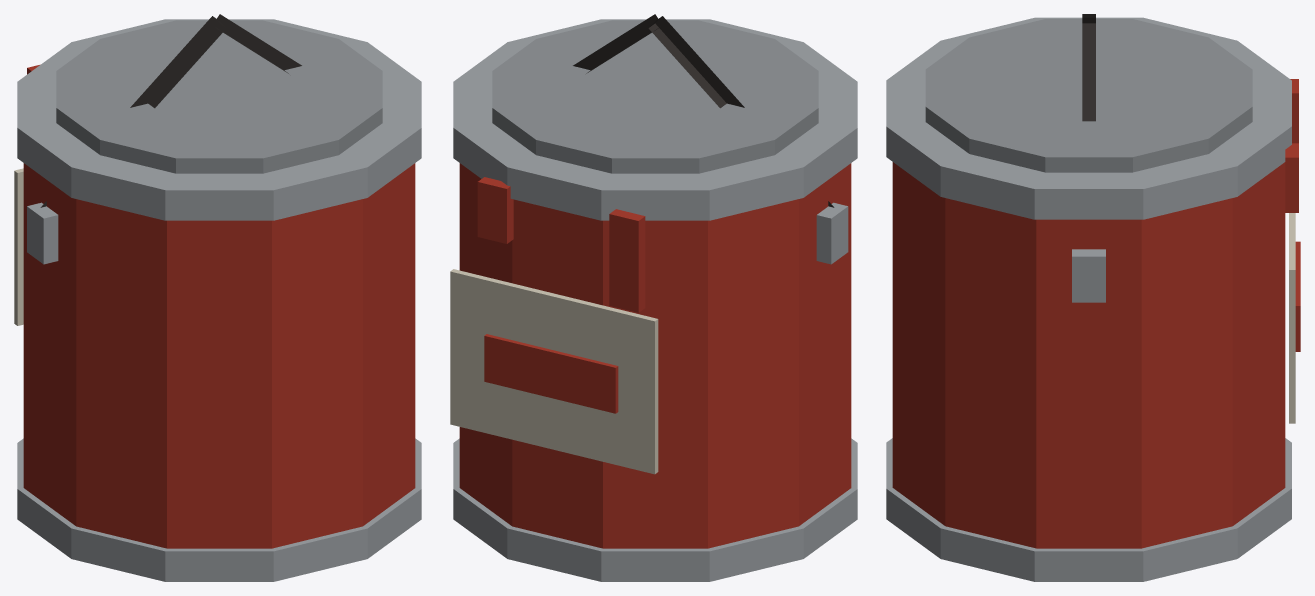
File: PaintCan.glb
3 renders of one model, left to right at view 1: azimuth 30°, elevation 25°; view 2: azimuth 150°, elevation 25°; view 3: azimuth 270°, elevation 25°, orthographic.
Parts seen in each view (by area): view 1: Body; view 2: Body; view 3: Body.
Boxes of the visible parts, <box> form: Body: <box>14,14,421,581</box>; Body: <box>450,14,857,581</box>; Body: <box>886,14,1300,581</box>.
Bounding box in the file's own units: 1.26 × 1.57 × 1.22.
